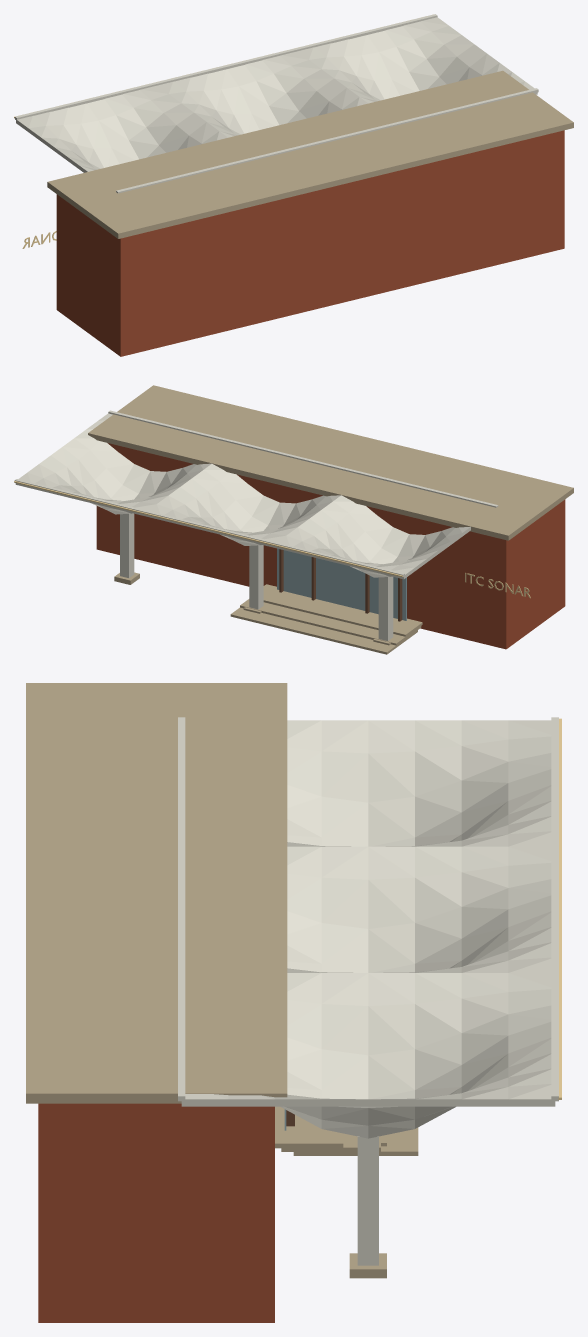
Rendered from KOL_T1_SONAR__Arrival.fbx.
3 views of the same model, one above another, from view 1: azimuth 30°, elevation 25°; view 2: azimuth 150°, elevation 25°; view 3: azimuth 270°, elevation 25° (orthographic). The views are drawn at different scales.
Parts seen in each view (by area): view 1: KOL_T1_SONAR__Arrival__KOL_T1_Terra, KOL_T1_SONAR__Arrival__KOL_T1_Stone, KOL_T1_SONAR__Arrival__KOL_T1_Pearl; view 2: KOL_T1_SONAR__Arrival__KOL_T1_Stone, KOL_T1_SONAR__Arrival__KOL_T1_Pearl, KOL_T1_SONAR__Arrival__KOL_T1_Terra, KOL_T1_SONAR__Arrival__KOL_T1_GlassLight, KOL_T1_SONAR__Arrival__KOL_T1_Accent, KOL_T1_SONAR__Arrival__KOL_T1_Louvre; view 3: KOL_T1_SONAR__Arrival__KOL_T1_Pearl, KOL_T1_SONAR__Arrival__KOL_T1_Stone, KOL_T1_SONAR__Arrival__KOL_T1_Terra, KOL_T1_SONAR__Arrival__KOL_T1_Accent.
Part boxes in pixels (<box>): KOL_T1_SONAR__Arrival__KOL_T1_Terra: <box>56,130,564,356</box>; KOL_T1_SONAR__Arrival__KOL_T1_Stone: <box>47,70,573,238</box>; KOL_T1_SONAR__Arrival__KOL_T1_Pearl: <box>15,14,538,193</box>; KOL_T1_SONAR__Arrival__KOL_T1_Stone: <box>88,385,573,654</box>; KOL_T1_SONAR__Arrival__KOL_T1_Pearl: <box>14,410,498,640</box>; KOL_T1_SONAR__Arrival__KOL_T1_Terra: <box>96,443,565,649</box>; KOL_T1_SONAR__Arrival__KOL_T1_GlassLight: <box>277,548,406,620</box>; KOL_T1_SONAR__Arrival__KOL_T1_Accent: <box>14,481,530,598</box>; KOL_T1_SONAR__Arrival__KOL_T1_Louvre: <box>279,549,402,621</box>; KOL_T1_SONAR__Arrival__KOL_T1_Pearl: <box>178,717,558,1265</box>; KOL_T1_SONAR__Arrival__KOL_T1_Stone: <box>26,683,418,1278</box>; KOL_T1_SONAR__Arrival__KOL_T1_Terra: <box>38,1103,274,1322</box>; KOL_T1_SONAR__Arrival__KOL_T1_Accent: <box>558,718,561,1099</box>.
Size of the model in its own units: 83.21 by 21.03 by 43.05.
